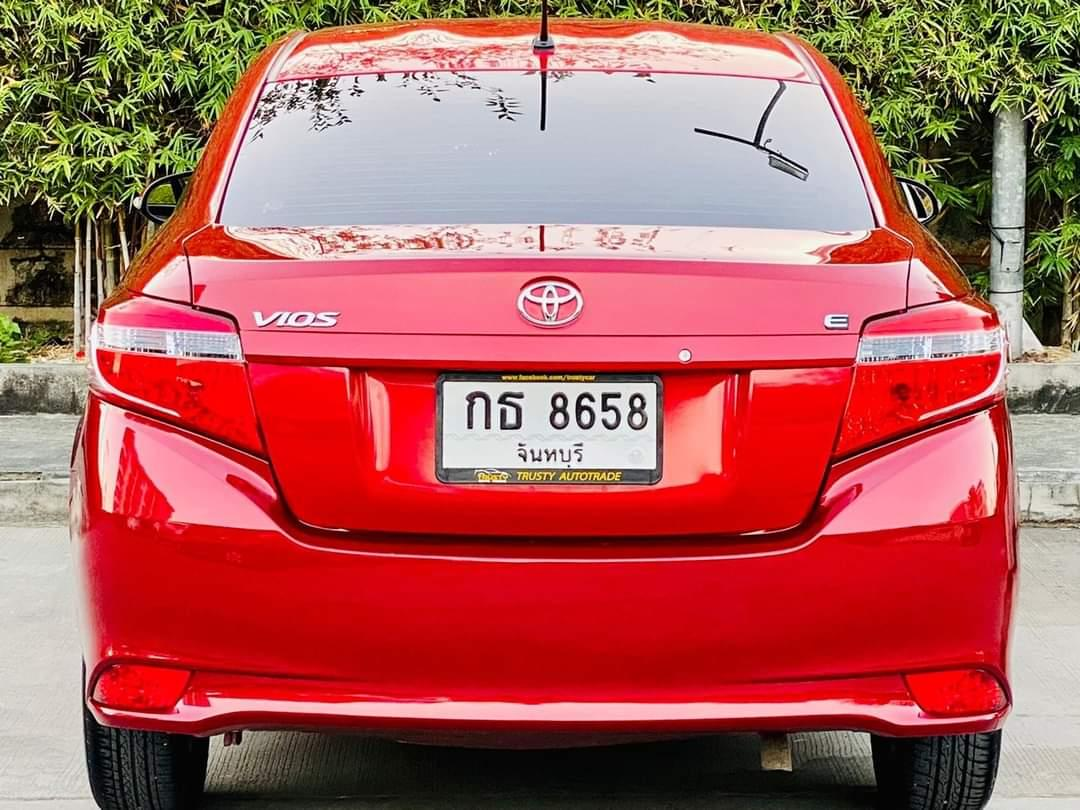license-plate: (432, 368, 666, 488)
